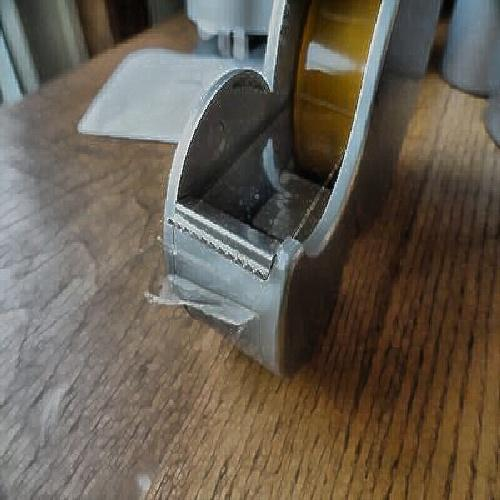stapler: (141, 14, 426, 368)
